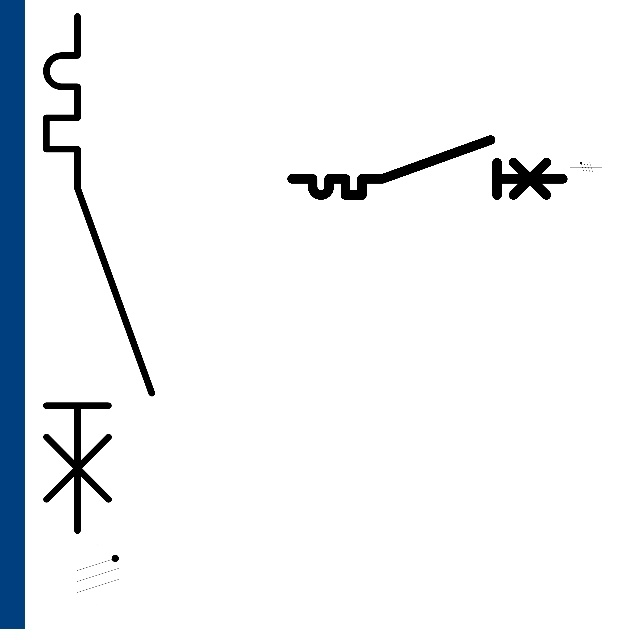interruptor_termomagnetico: (33, 3, 165, 544), (285, 133, 569, 202)
